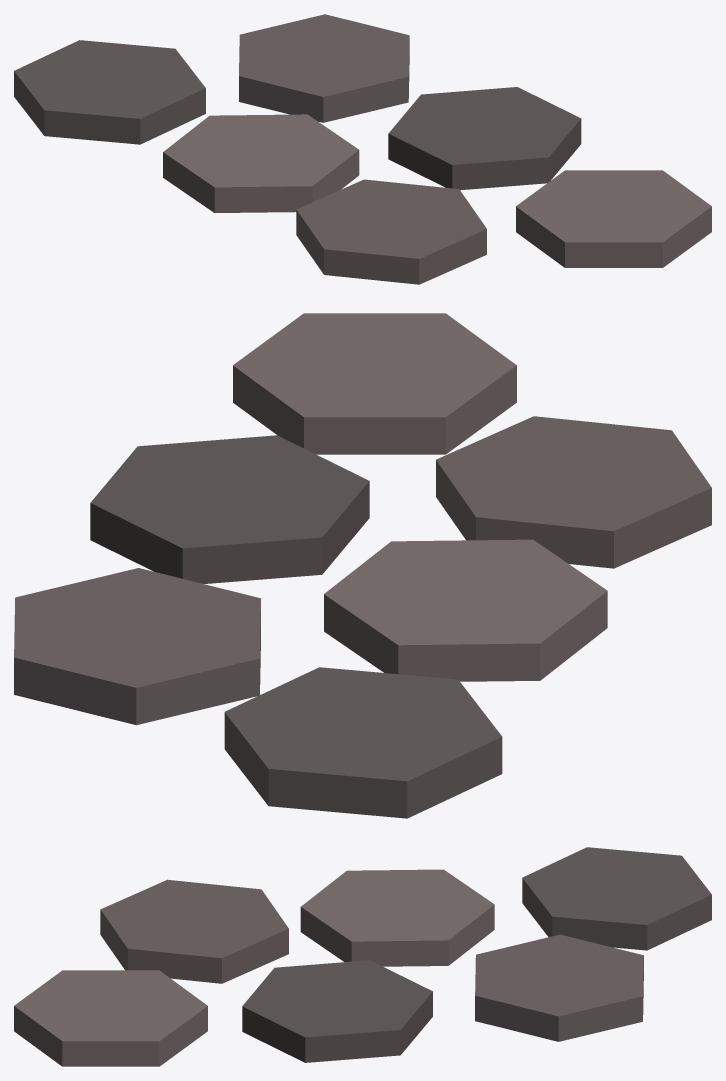
The model's file is StonePath.obj.
3 renders of one model, top to bottom at view 1: azimuth 30°, elevation 25°; view 2: azimuth 150°, elevation 25°; view 3: azimuth 270°, elevation 25°, orthographic. The views are drawn at different scales.
Parts seen in each view (by area): view 1: {mesh}StonePath_Cylinder.034; view 2: {mesh}StonePath_Cylinder.034; view 3: {mesh}StonePath_Cylinder.034.
Part boxes in pixels (x1,y1,x2,y2): {mesh}StonePath_Cylinder.034: [14, 14, 711, 284]; {mesh}StonePath_Cylinder.034: [14, 313, 711, 818]; {mesh}StonePath_Cylinder.034: [14, 847, 711, 1066].
Size of the model in its own units: 66.01 by 4.04 by 100.
1 material, 1 textured.
